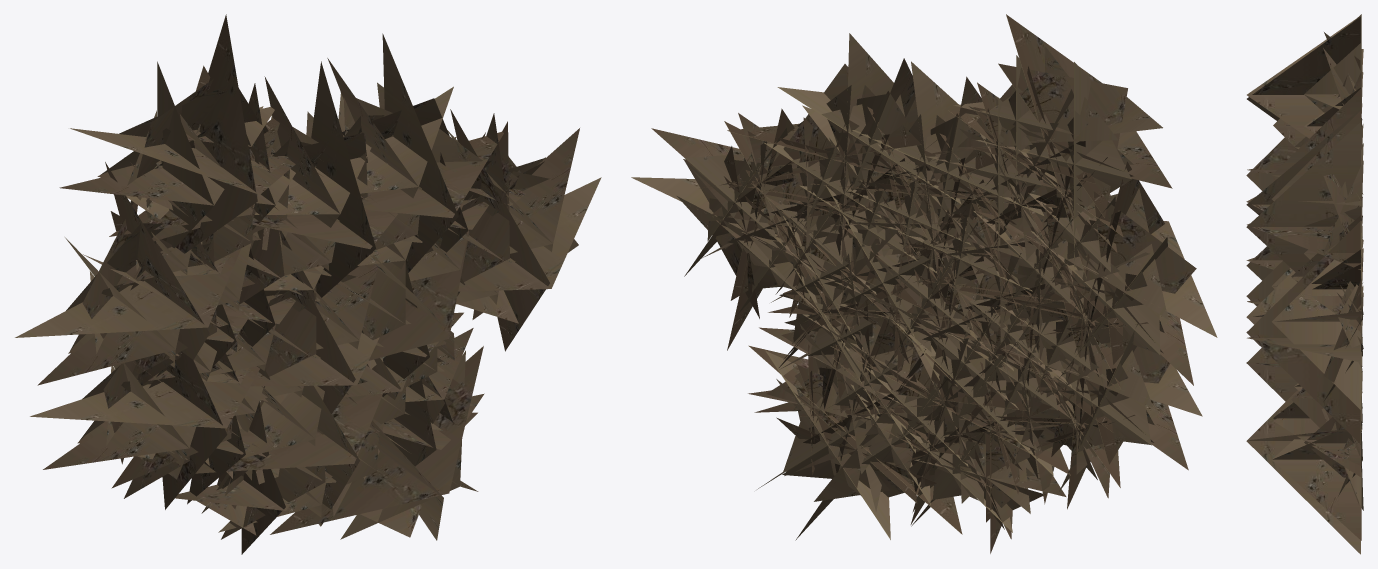
Rendered from grasstuftgroup_bigclump_test.glb.
3 views of the same model, side by side, from view 1: azimuth 30°, elevation 25°; view 2: azimuth 150°, elevation 25°; view 3: azimuth 270°, elevation 25° (orthographic). The views are drawn at different scales.
Bounding box in the file's own units: 219 × 206 × 47.91.
Materials: 1 (1 with a texture image).
